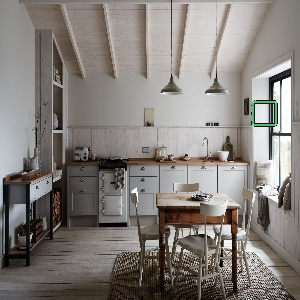square: (249, 99, 280, 128)
